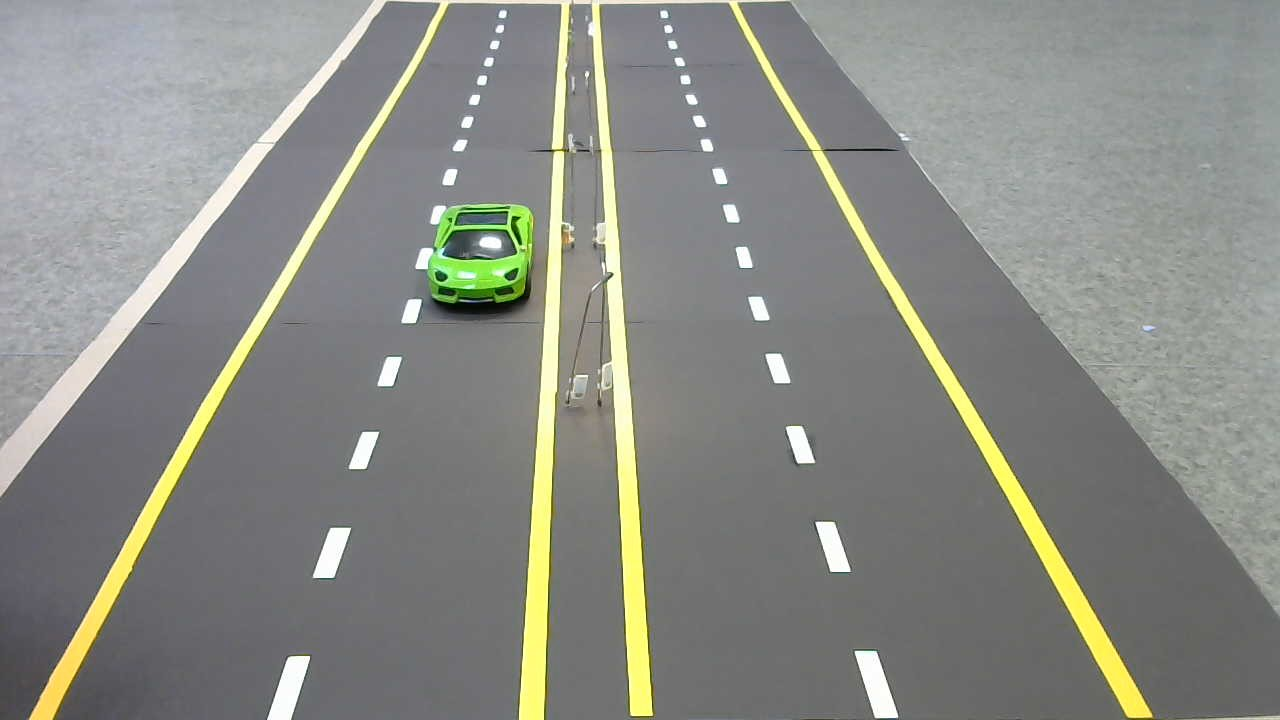front_car: (421, 199, 540, 319)
